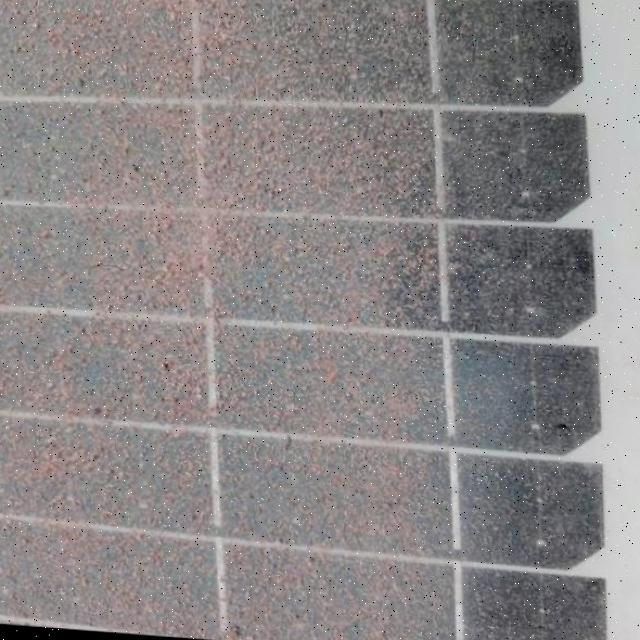Surface Contaminant: (103, 0, 615, 640)
